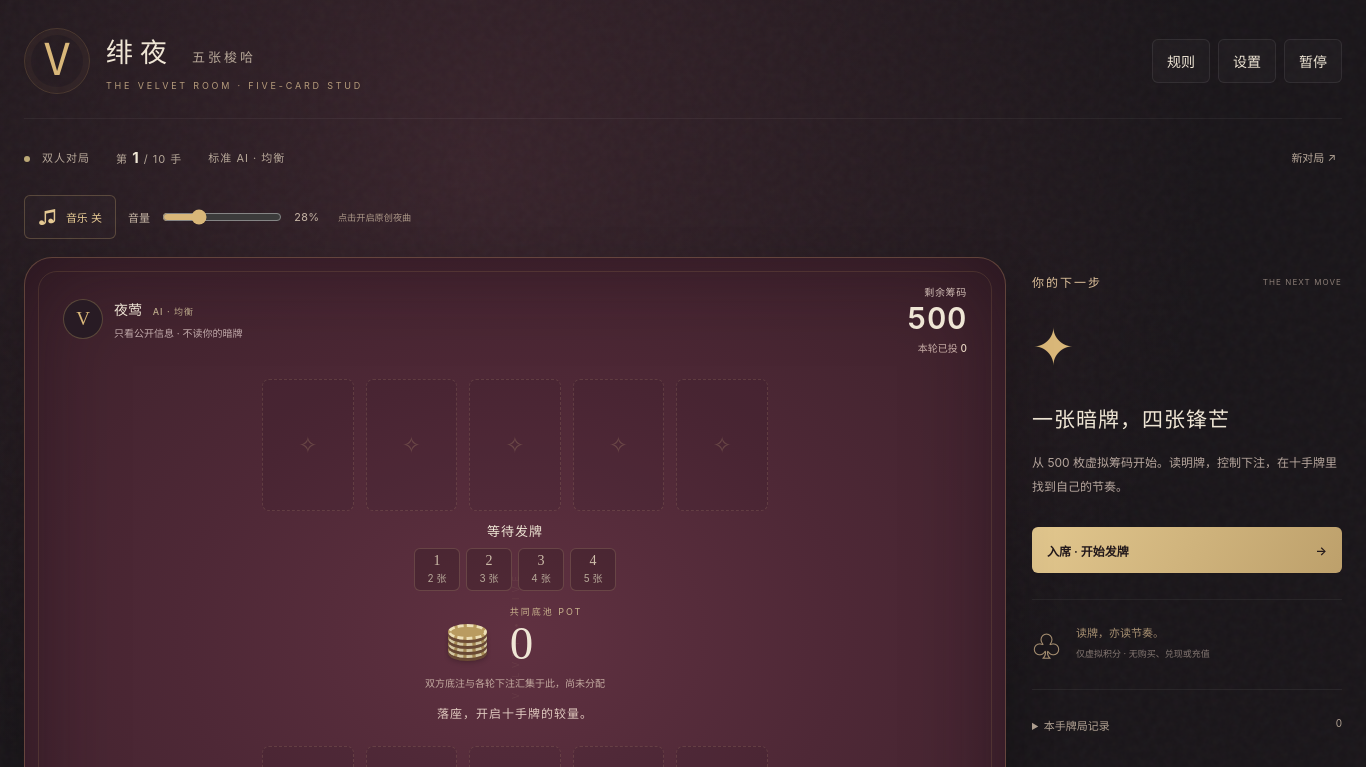
Test case: round indicator and personality › shows a readable round label and marks the current step
Check: the text "等待发牌" is shown, box [487, 521, 543, 540]
Click the button "入席 · 开始发牌 →".
click(1088, 551)  # box [1032, 527, 1342, 573]
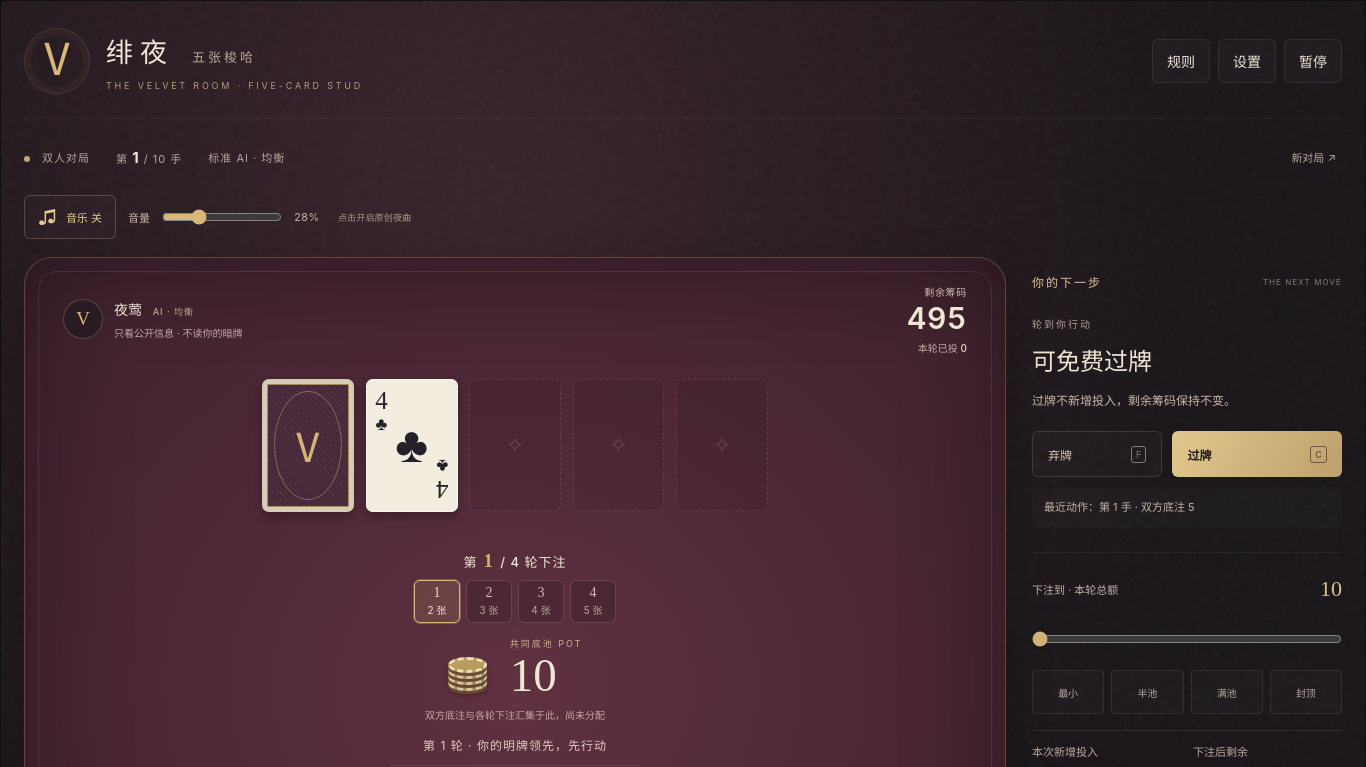
Check: the list item "1 2 张" is shown, box [414, 580, 460, 623]
Check: the text "第 1 / 4 轮下注" is shown, box [463, 551, 567, 572]
